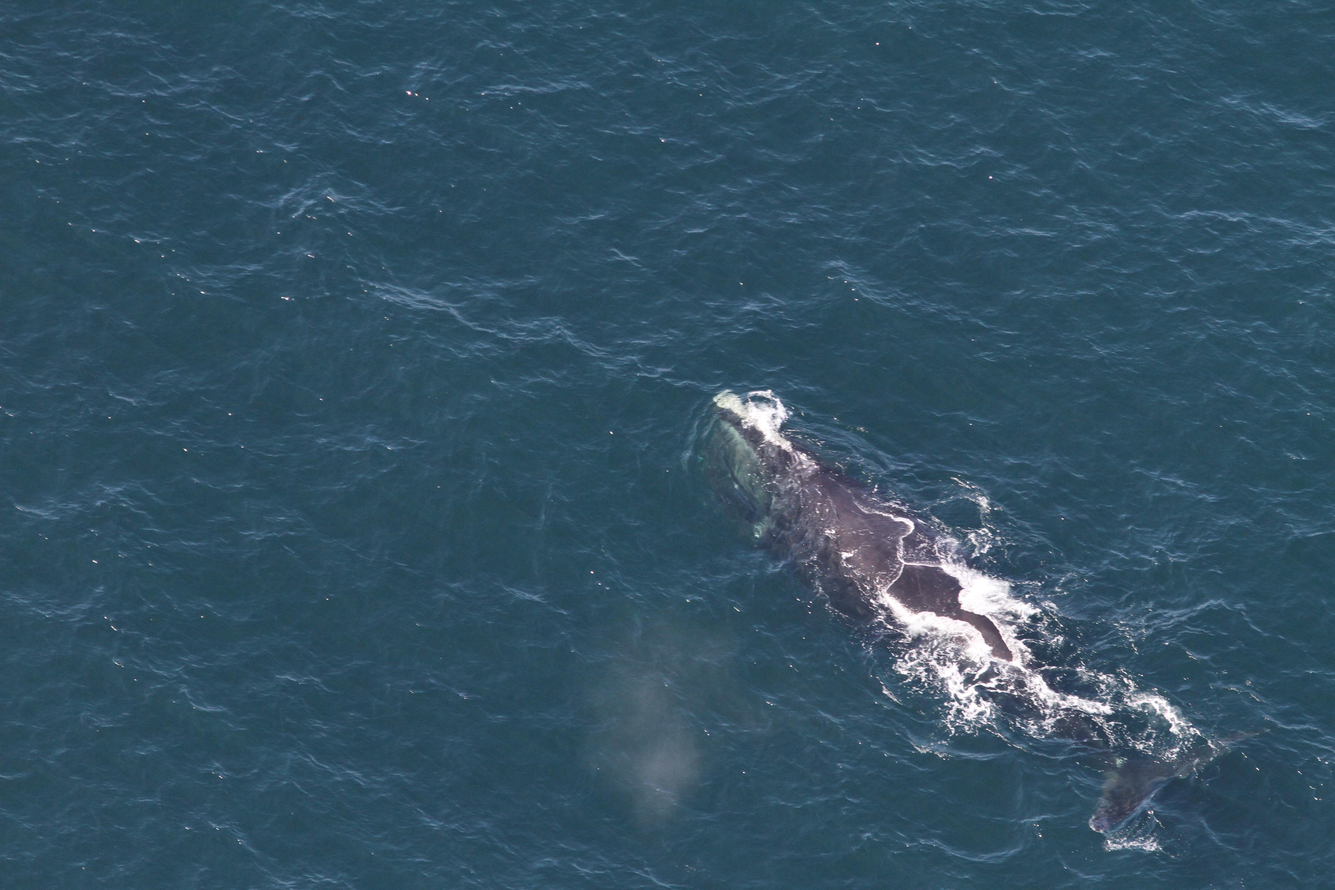whale: (694, 375, 1270, 852)
